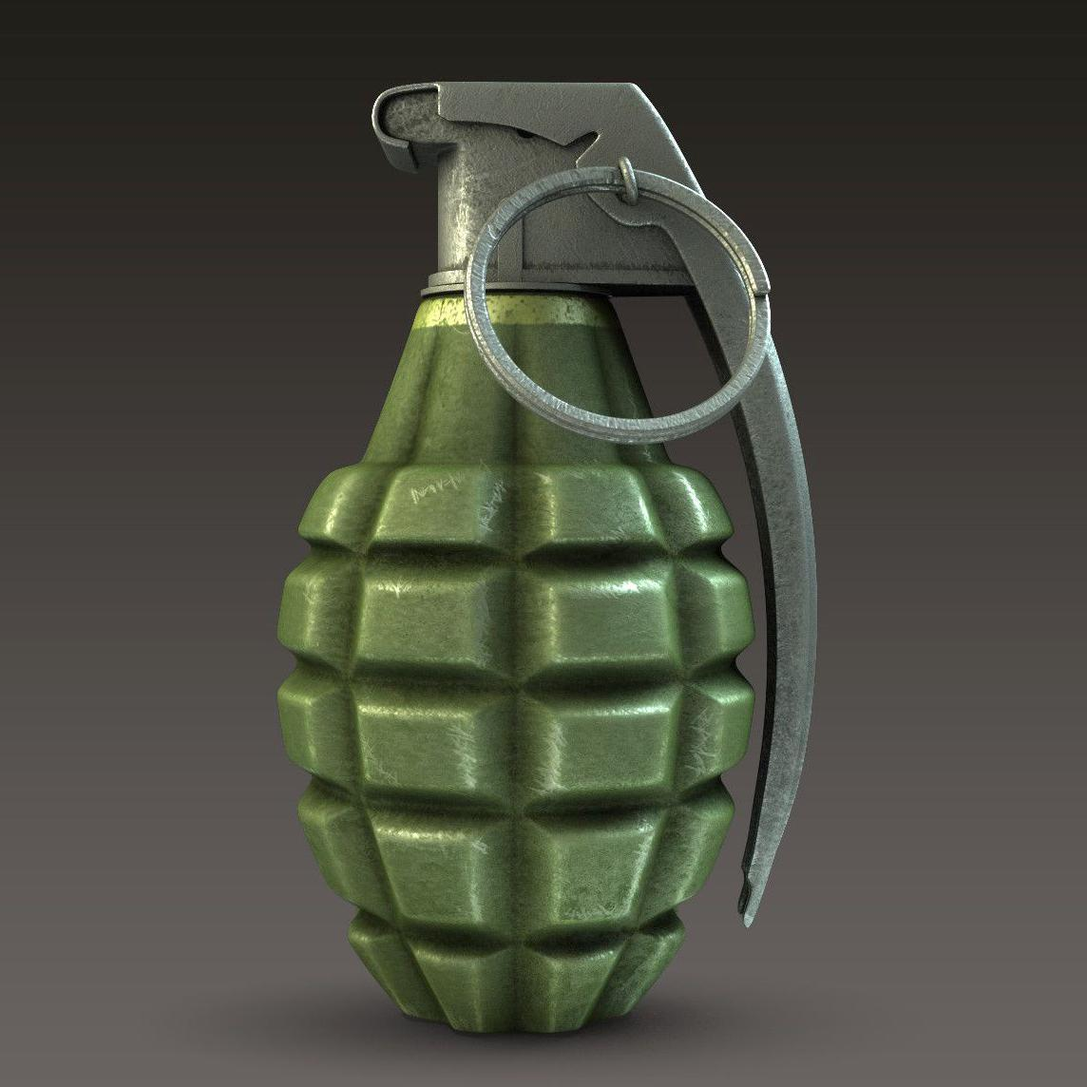Grenade: (277, 79, 814, 1037)
